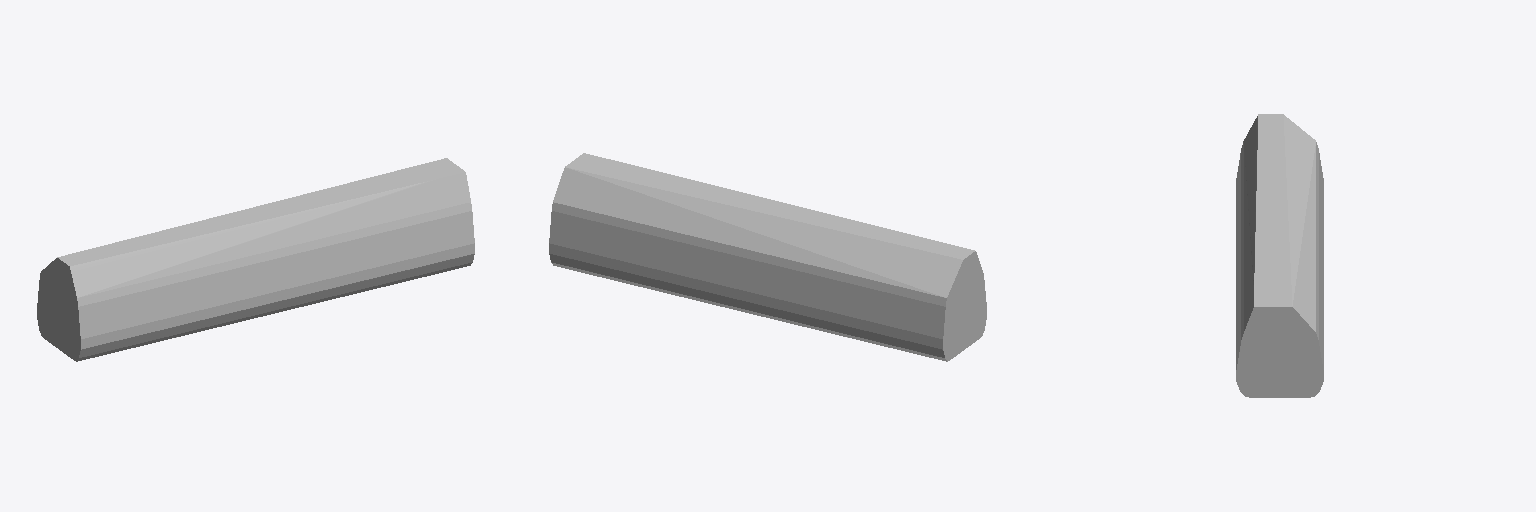
File: Window_Slider_48x36_collision_10.obj
The picture shows the model from 3 angles: view 1: azimuth 30°, elevation 25°; view 2: azimuth 150°, elevation 25°; view 3: azimuth 270°, elevation 25°; orthographic projection.
Bounding box in the file's own units: 0.4919 × 0.1083 × 0.0947.